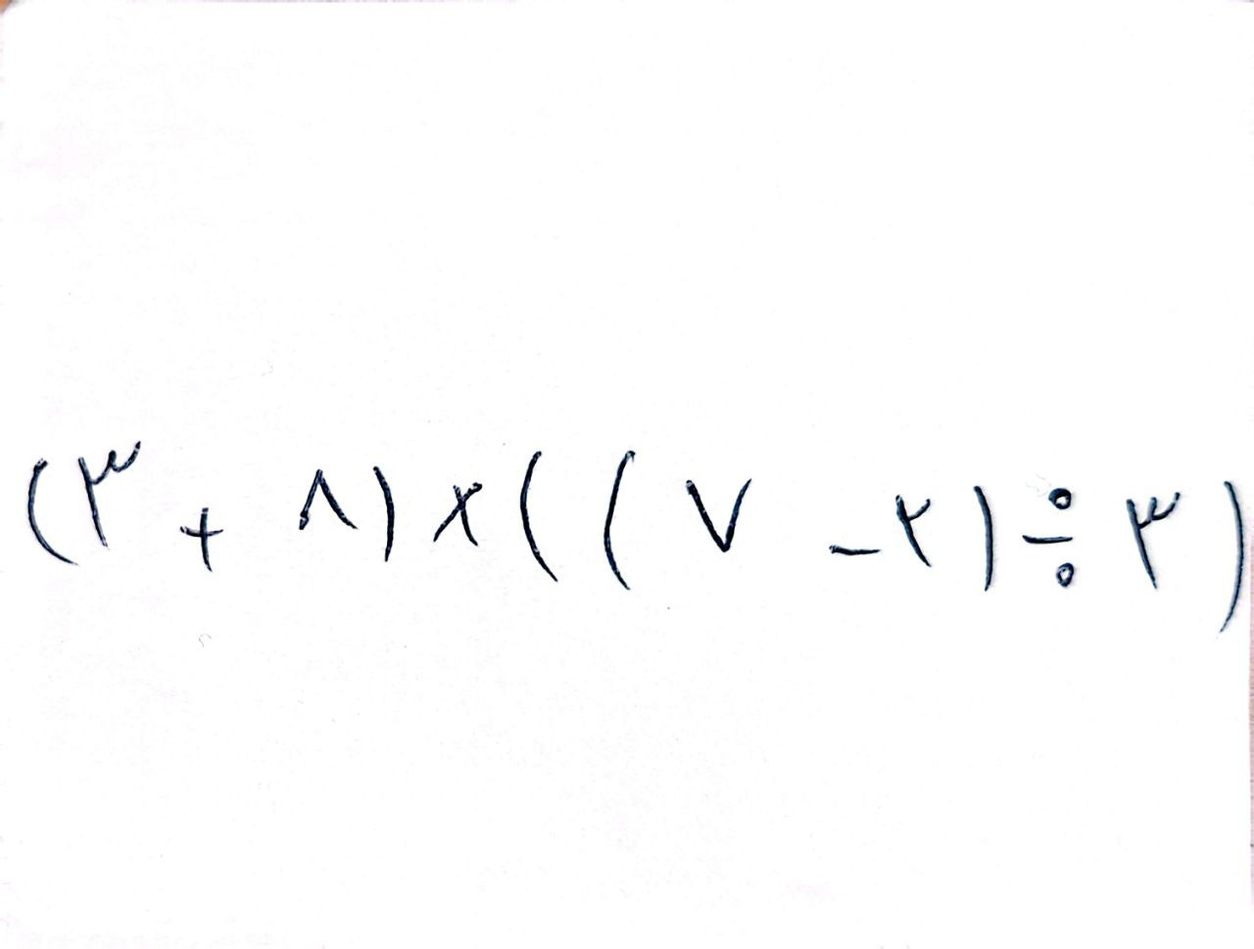character: (76, 437, 143, 550), (27, 443, 79, 571), (518, 447, 565, 585), (1020, 484, 1081, 590), (680, 475, 759, 556), (599, 447, 641, 593), (1207, 479, 1246, 635), (1125, 494, 1182, 592), (295, 467, 361, 533), (430, 477, 487, 550), (174, 502, 228, 573), (892, 494, 936, 571), (371, 460, 398, 565), (973, 484, 995, 597), (825, 543, 882, 558)
